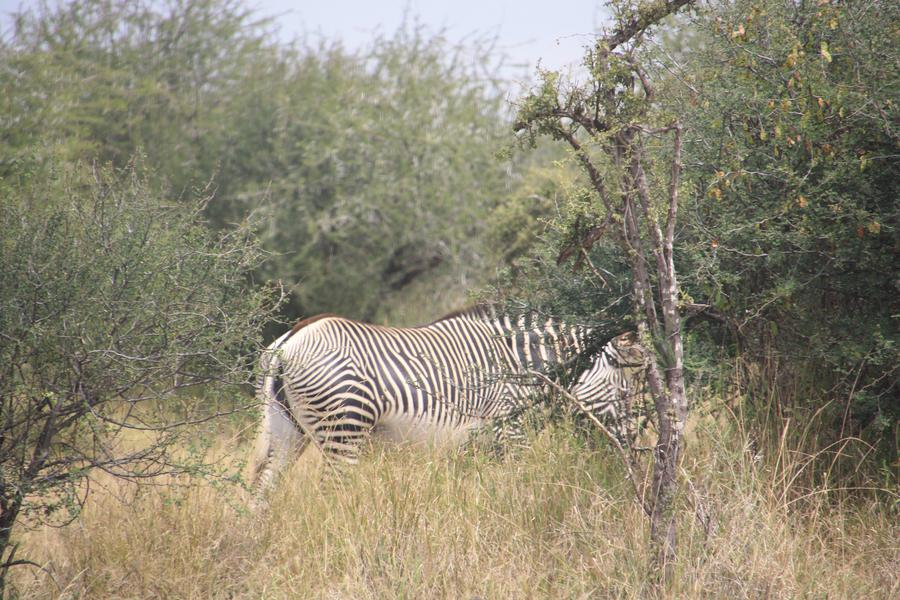zebra_grevys: (274, 302, 504, 418)
